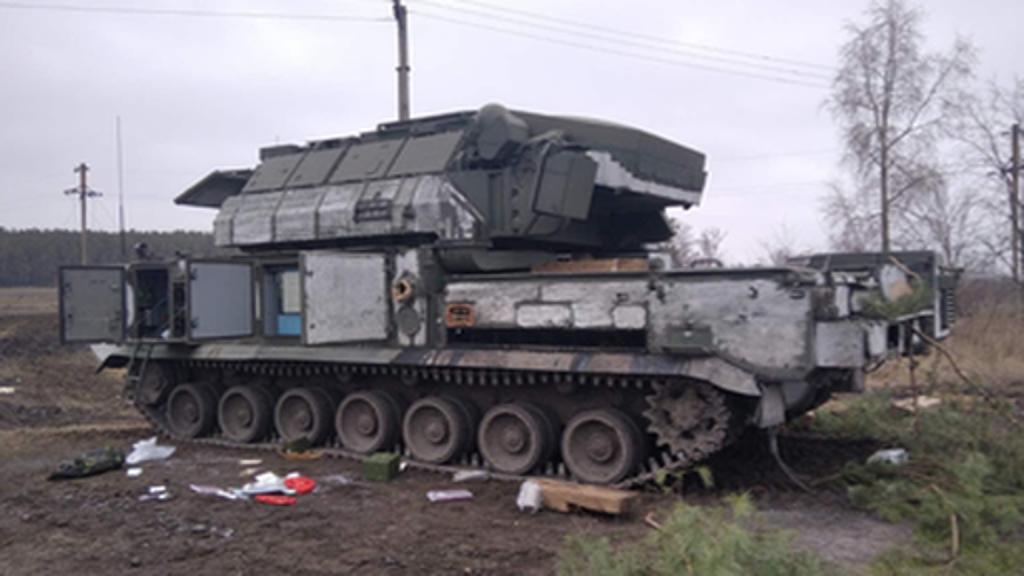MLRS: (48, 88, 960, 504)
